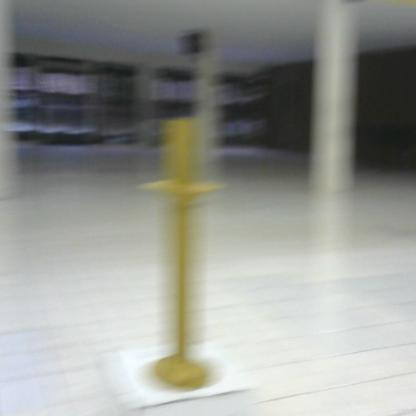pole: (130, 111, 239, 389)
